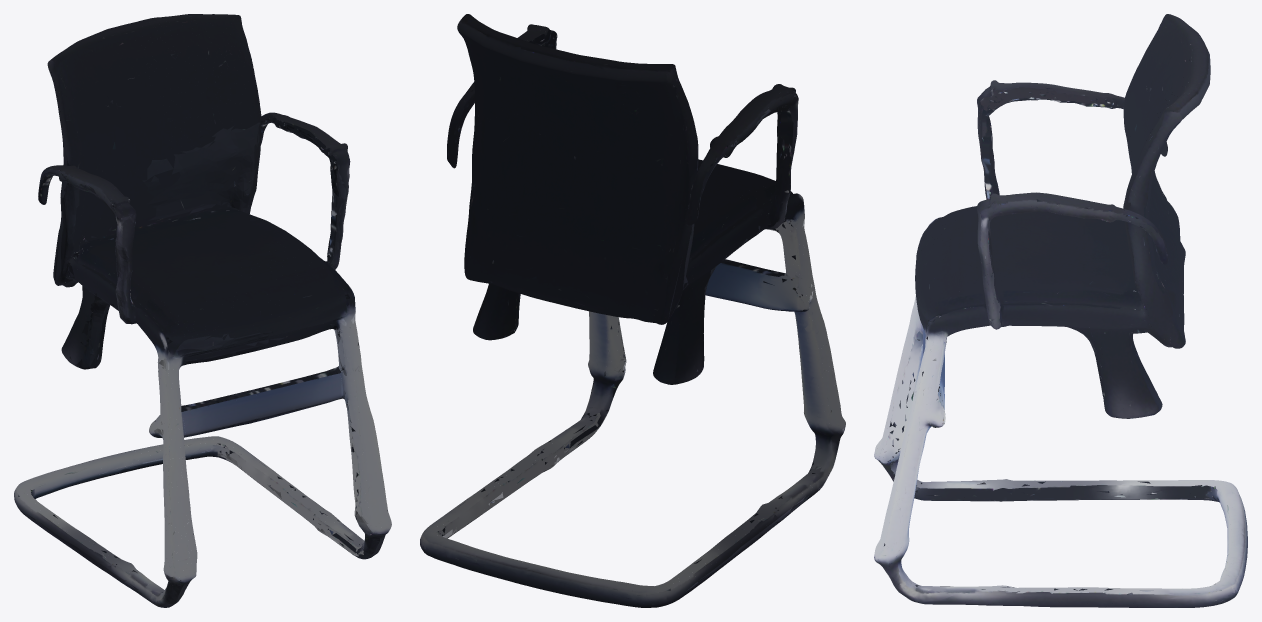
File: Date03_Sub03_chairblack_lift_t0001.500_k2_rgba_align.obj
3 renders of one model, left to right at view 1: azimuth 30°, elevation 25°; view 2: azimuth 150°, elevation 25°; view 3: azimuth 270°, elevation 25°, orthographic. The views are drawn at different scales.
Bounding box in the file's own units: 0.457 × 0.8529 × 0.5865.
Materials: 1 (1 with a texture image).
